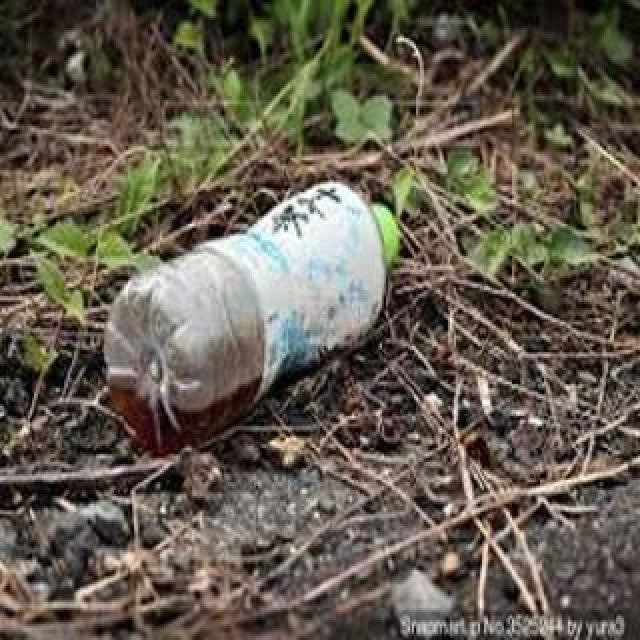Pet_Bottle: (103, 181, 403, 459)
